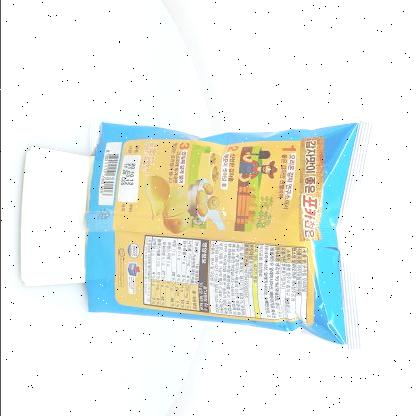Others: (80, 108, 392, 356)
